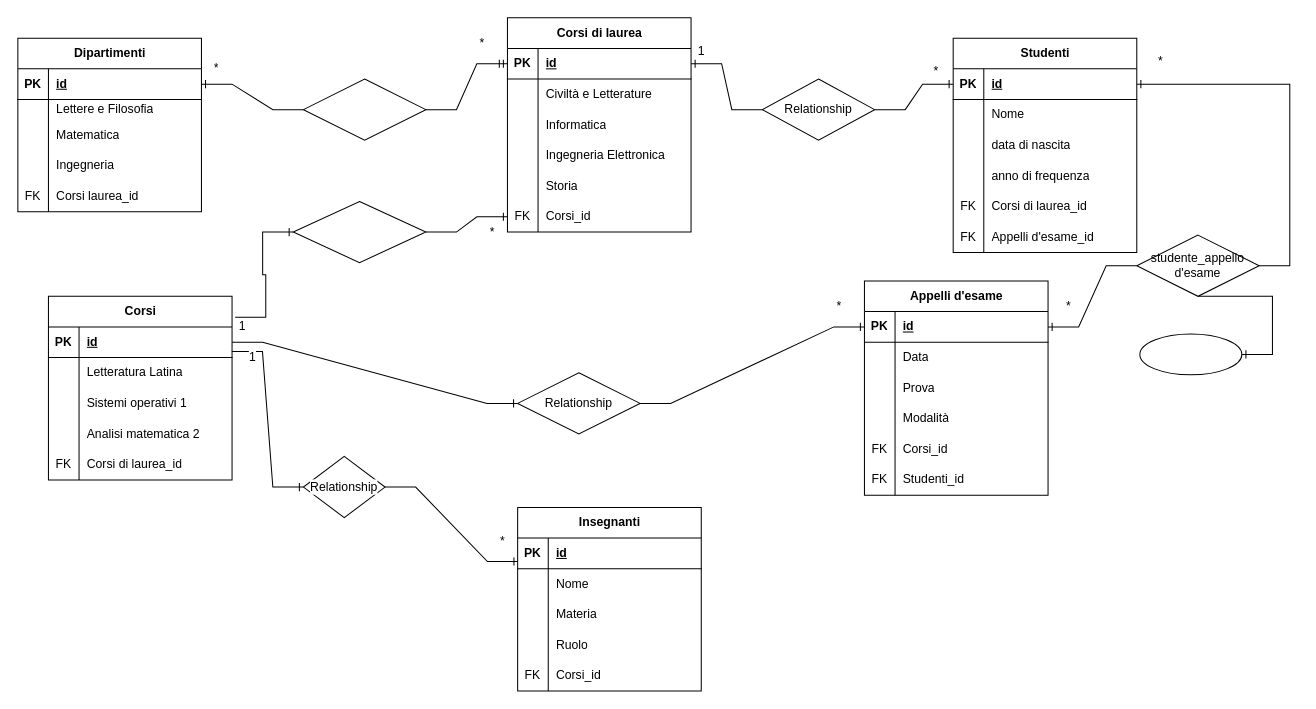
Some shapes in this 1316 by 709 pixel diagram are drawn without their labels. Here are the shapes that lost their labels. From the top down, the centre of each, then its label:
At pixel 364 109: "dipartimento_corso di laurea".
At pixel 359 231: "corso_corso di laurea".
At pixel 1190 354: "voto".
